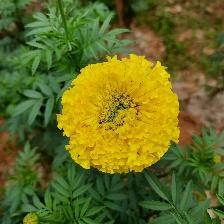marigold: (51, 56, 187, 171)
